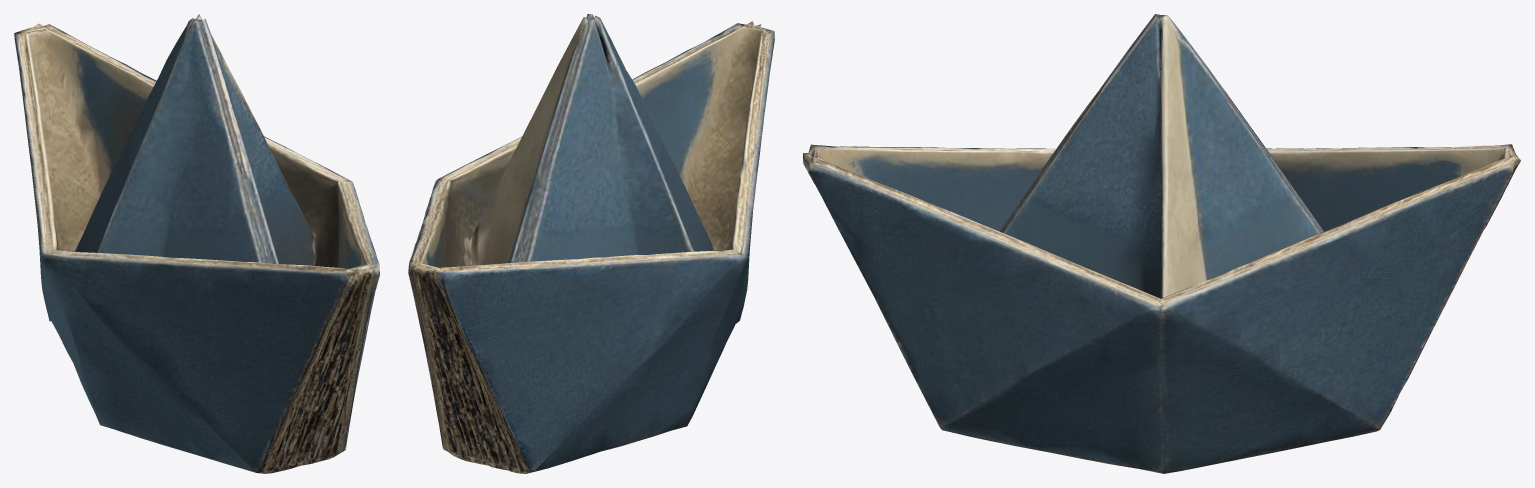
3 views of the same model, side by side, from view 1: azimuth 30°, elevation 25°; view 2: azimuth 150°, elevation 25°; view 3: azimuth 270°, elevation 25° (orthographic). The views are drawn at different scales.
Parts seen in each view (by area): view 1: tripo_node_64e6ba9f-fd98-4c84-b551-bdb0faa6e1e7; view 2: tripo_node_64e6ba9f-fd98-4c84-b551-bdb0faa6e1e7; view 3: tripo_node_64e6ba9f-fd98-4c84-b551-bdb0faa6e1e7.
Part boxes in pixels (x1,y1,x2,y2): tripo_node_64e6ba9f-fd98-4c84-b551-bdb0faa6e1e7: [14, 14, 379, 473]; tripo_node_64e6ba9f-fd98-4c84-b551-bdb0faa6e1e7: [408, 14, 774, 473]; tripo_node_64e6ba9f-fd98-4c84-b551-bdb0faa6e1e7: [803, 14, 1520, 473].
Bounding box in the file's own units: 0.533 × 0.6326 × 1.
Materials: 1 (1 with a texture image).
